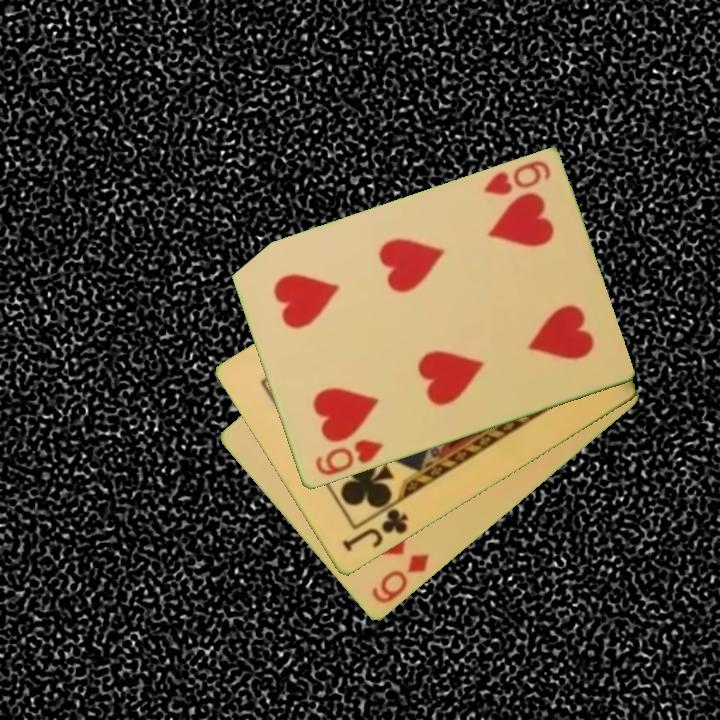6d: (368, 550, 432, 608)
6h: (311, 436, 386, 479), (480, 157, 554, 199)
Jc: (338, 505, 412, 556)
